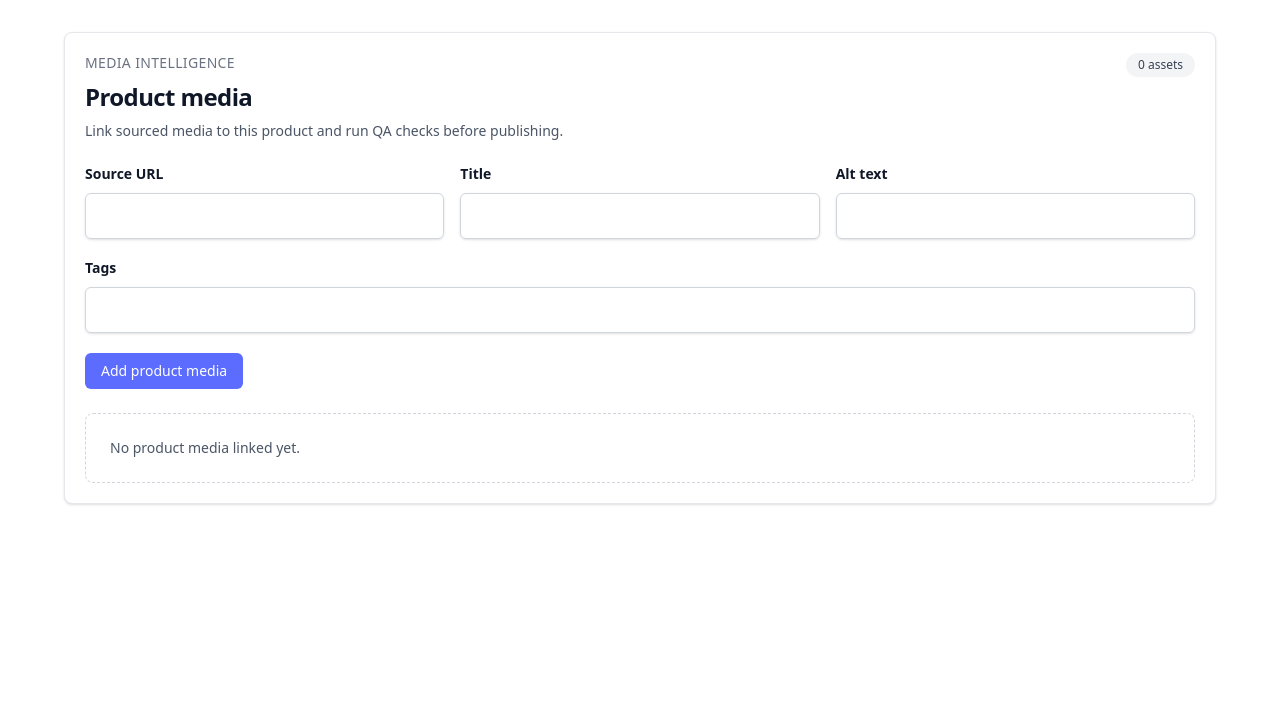
ProductMediaPanel › reports source validation and backend errors
Click the button "Add product media" at (164, 371), box x1=85 y1=353 x2=243 y2=389
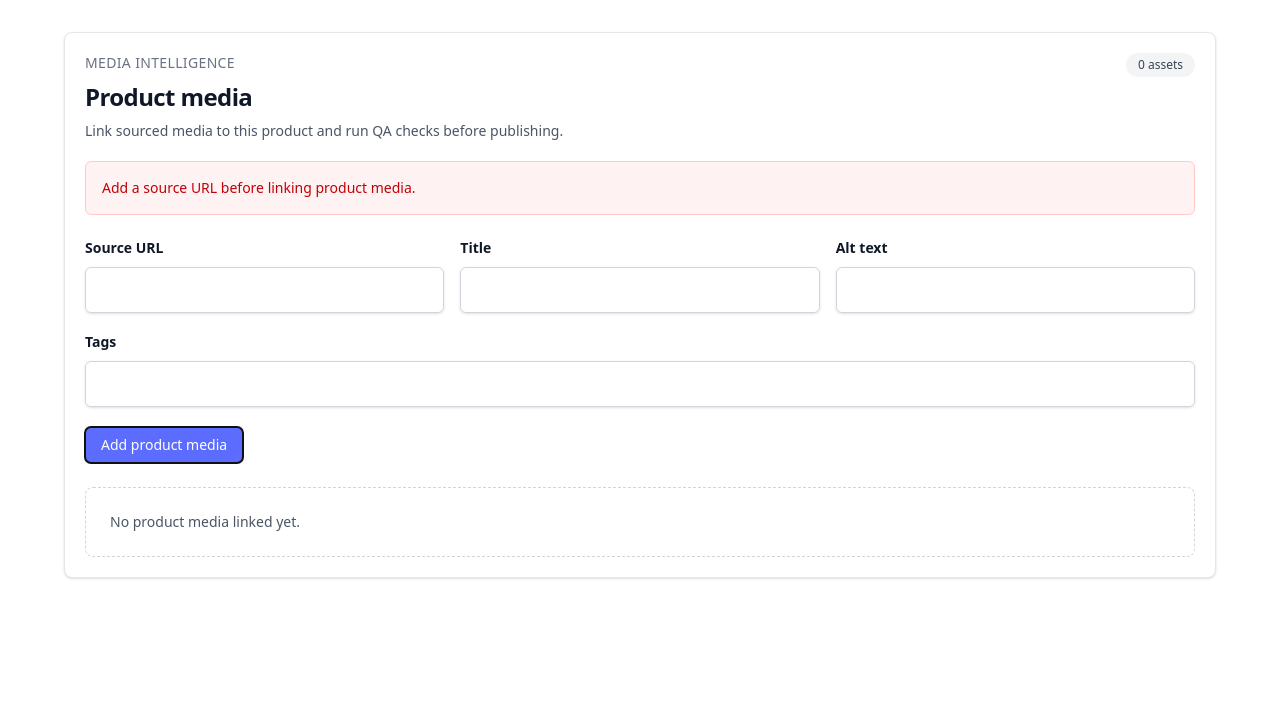
Expected: the message shows "Add a source URL", x1=102 y1=178 x2=416 y2=197
Type "https://supplier.example/failing.png" into the field labelled "Source URL" at (265, 290), box x1=85 y1=267 x2=444 y2=313
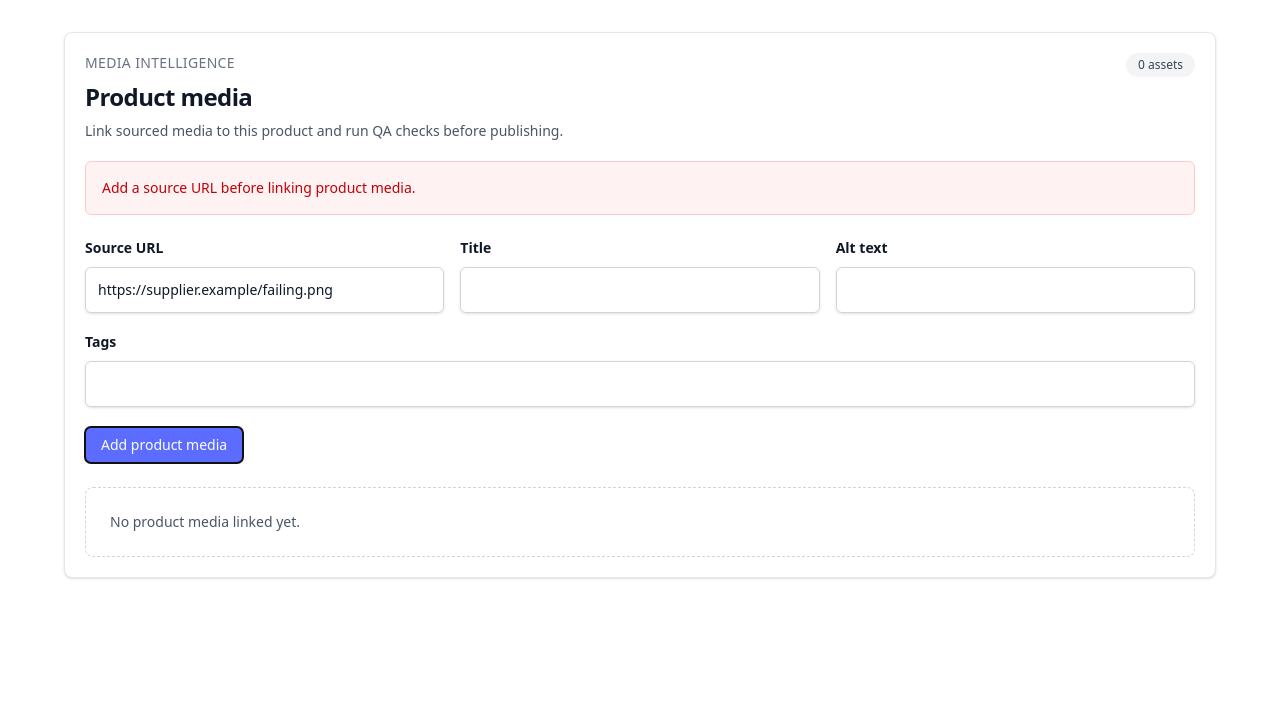
Click the button "Add product media" at (164, 445), box x1=85 y1=427 x2=243 y2=463
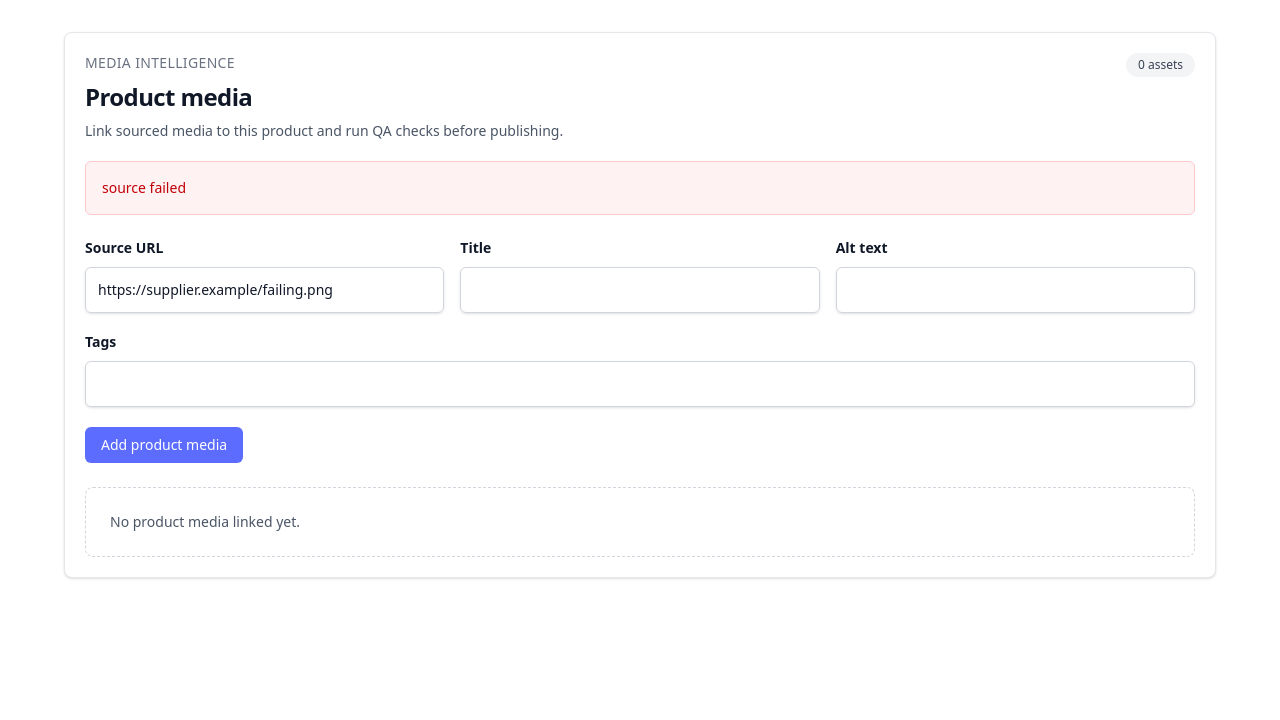
Expected: the message reads "source failed", x1=102 y1=178 x2=186 y2=197
